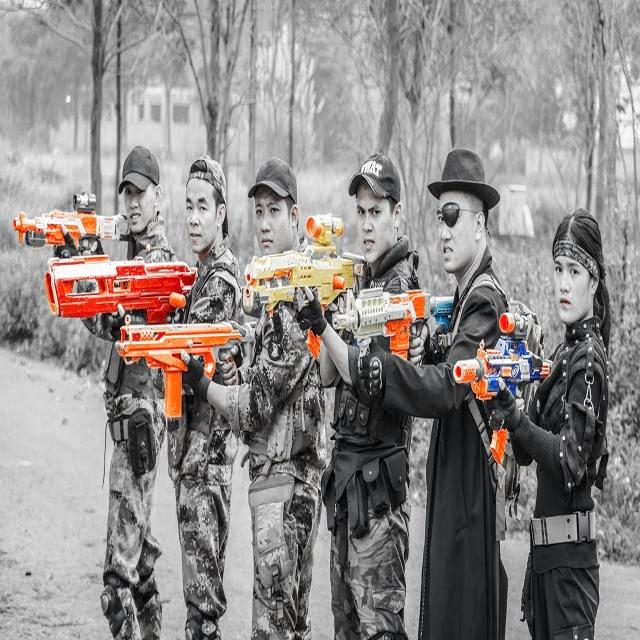Nerf gun: (233, 208, 373, 363), (449, 304, 563, 478), (110, 302, 262, 430), (39, 249, 201, 338), (325, 274, 457, 371), (5, 182, 134, 268)
